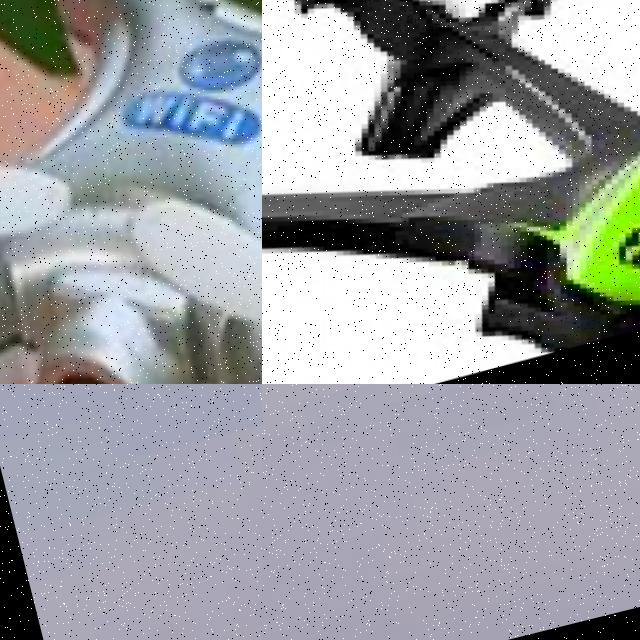drone: (262, 0, 640, 384), (0, 0, 262, 384)
